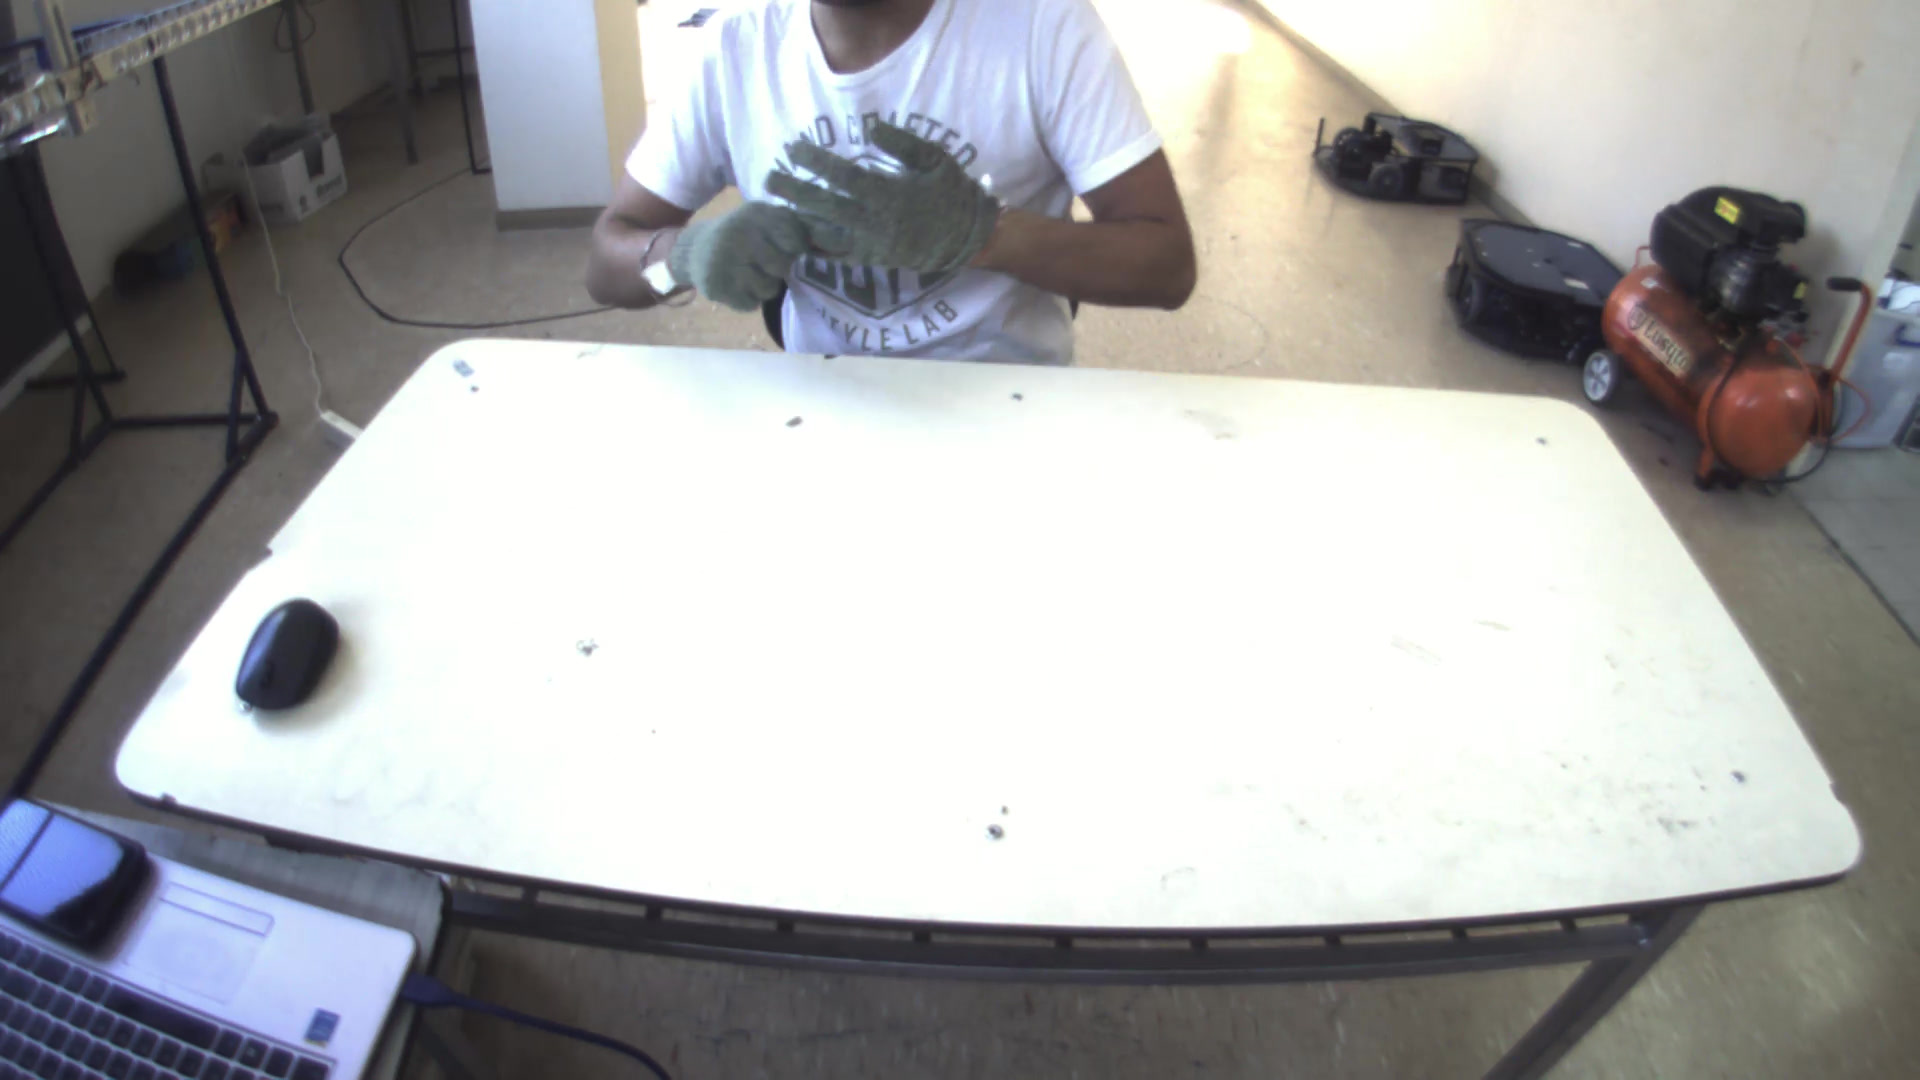hand: (737, 103, 1005, 284), (663, 183, 804, 306)
